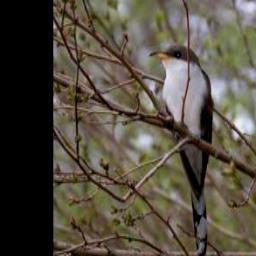Cuckoo: (149, 41, 216, 253)
